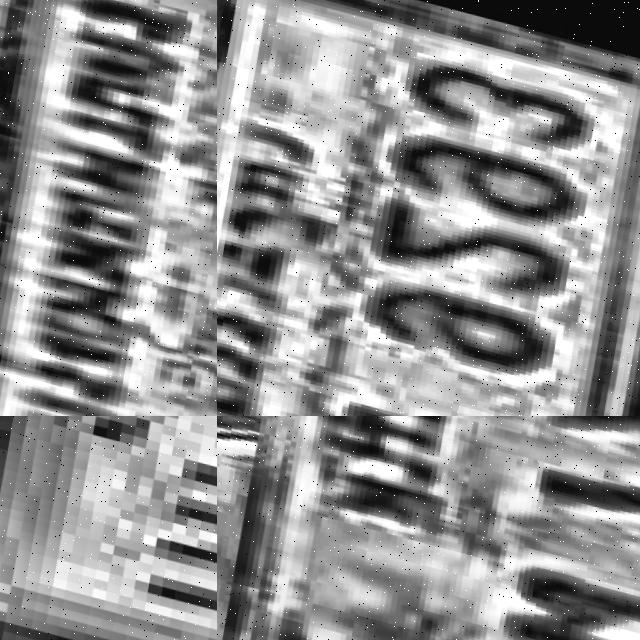license-plate: (217, 0, 640, 416), (220, 416, 640, 640), (0, 0, 217, 416), (0, 416, 217, 640)
